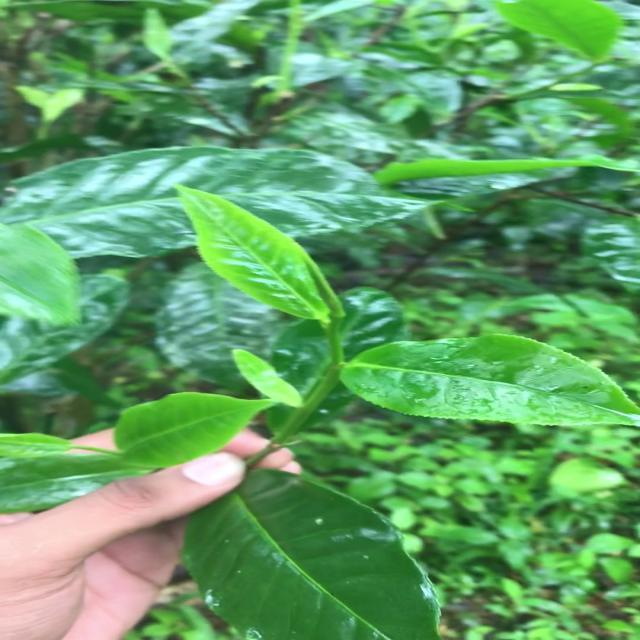Stem: (321, 369, 341, 389)
